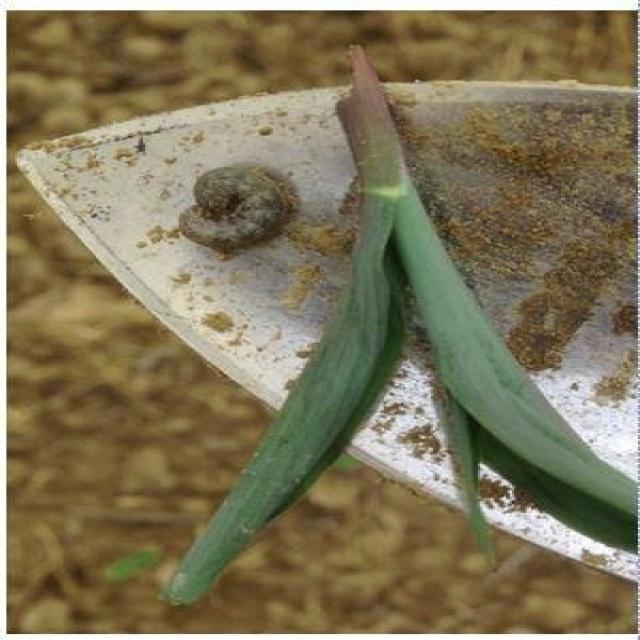black cutworm: (168, 162, 309, 252)
